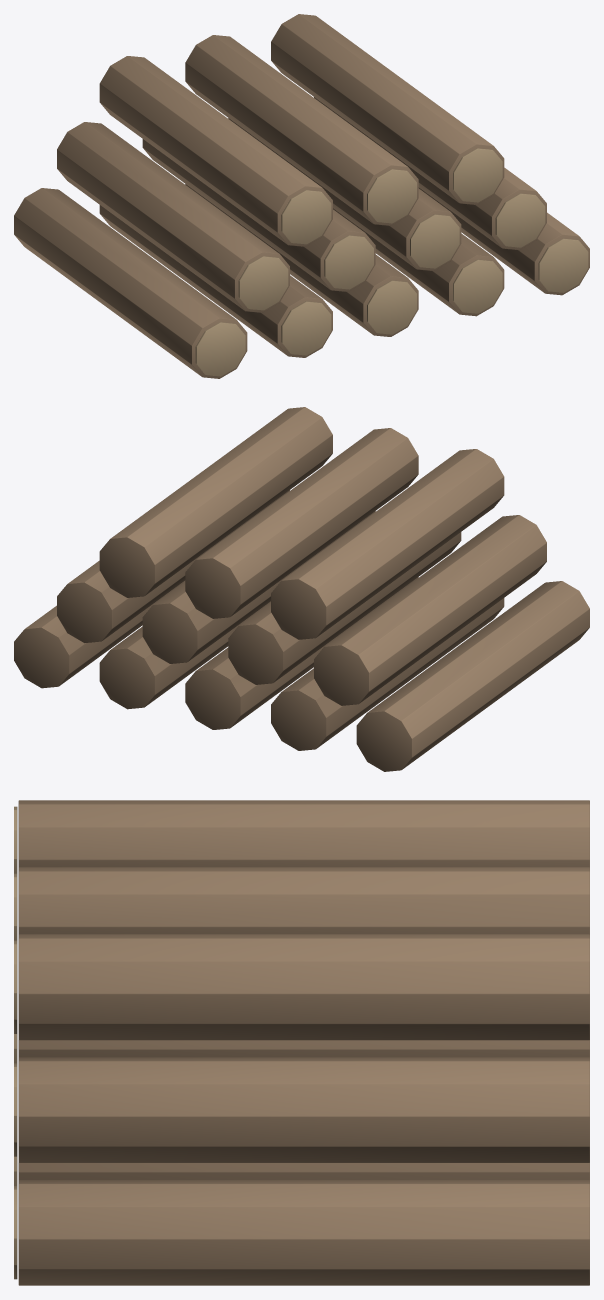
Rendered from woodpile.glb.
The picture shows the model from 3 angles, top to bottom: view 1: azimuth 30°, elevation 25°; view 2: azimuth 150°, elevation 25°; view 3: azimuth 270°, elevation 25°; orthographic projection. The views are drawn at different scales.
Visible parts, largest first — view 1: boat_bark2, boat_plank; view 2: boat_bark2; view 3: boat_bark2, boat_plank.
Part boxes in pixels (left/top/right/bottom): boat_bark2: left=14, top=14, right=589, bottom=378; boat_plank: left=195, top=148, right=588, bottom=376; boat_bark2: left=14, top=407, right=589, bottom=771; boat_bark2: left=18, top=800, right=589, bottom=1285; boat_plank: left=14, top=806, right=17, bottom=1279.
Bounding box in the file's own units: 4.65 × 1.92 × 3.63.
